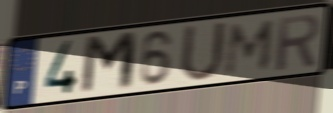4: (42, 38, 80, 98)
6: (138, 28, 176, 88)
M: (78, 29, 140, 98), (222, 18, 279, 78)
R: (274, 11, 322, 74)
U: (177, 20, 229, 85)
